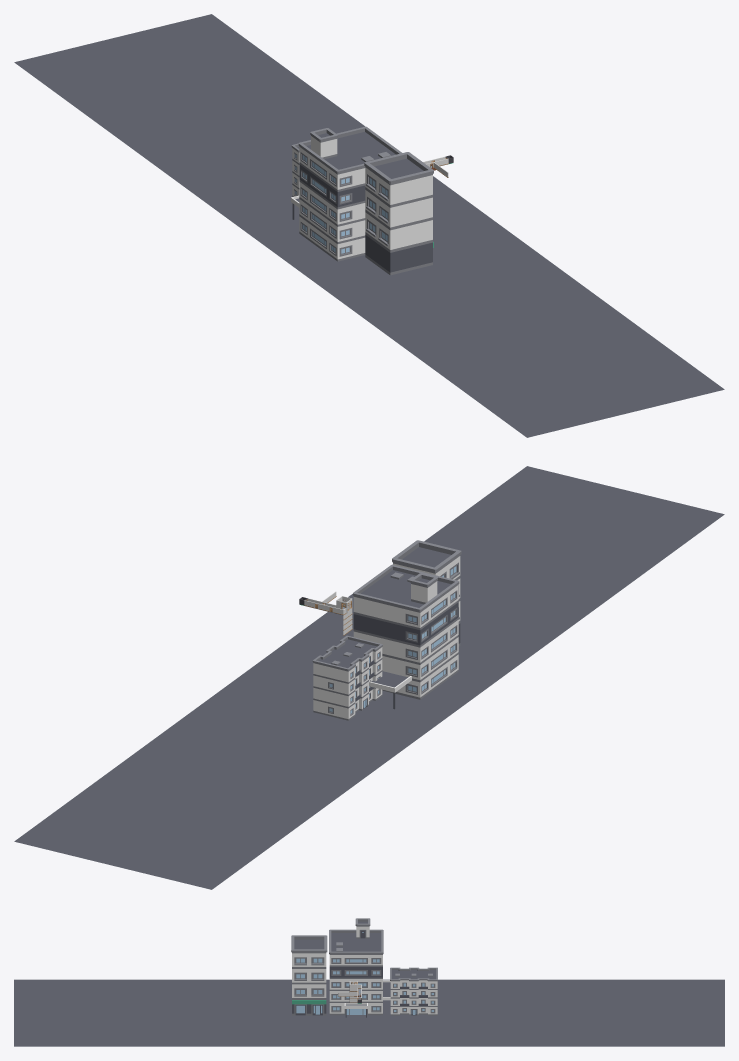
The model's file is Level_0_1MaybeFixed.fbx.
The picture shows the model from 3 angles, top to bottom: view 1: azimuth 30°, elevation 25°; view 2: azimuth 150°, elevation 25°; view 3: azimuth 270°, elevation 25°; orthographic projection. The views are drawn at different scales.
Visible parts, largest first — view 1: mergedBlocks; view 2: mergedBlocks; view 3: mergedBlocks.
Boxes of the visible parts, x1,y1,x2,y2 form: mergedBlocks: (14, 14, 724, 437); mergedBlocks: (14, 466, 724, 889); mergedBlocks: (14, 918, 724, 1046).
Size of the model in its own units: 405 by 211 by 1818.
24 materials, 4 textured.
